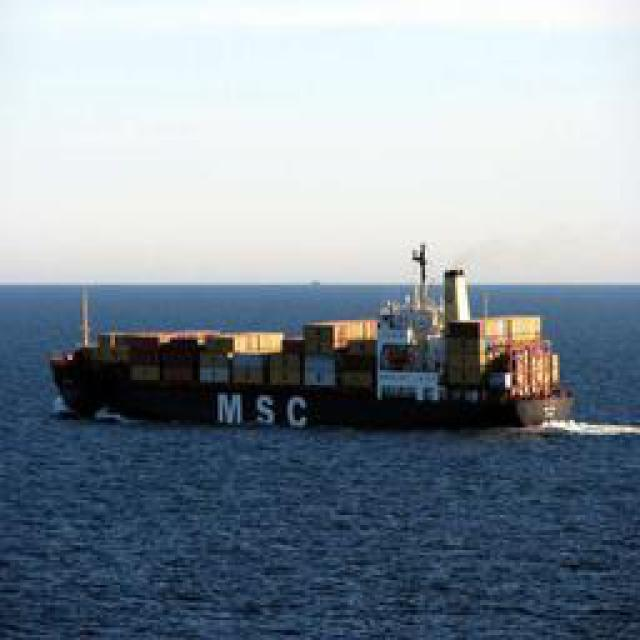Ship: (50, 311, 585, 426)
